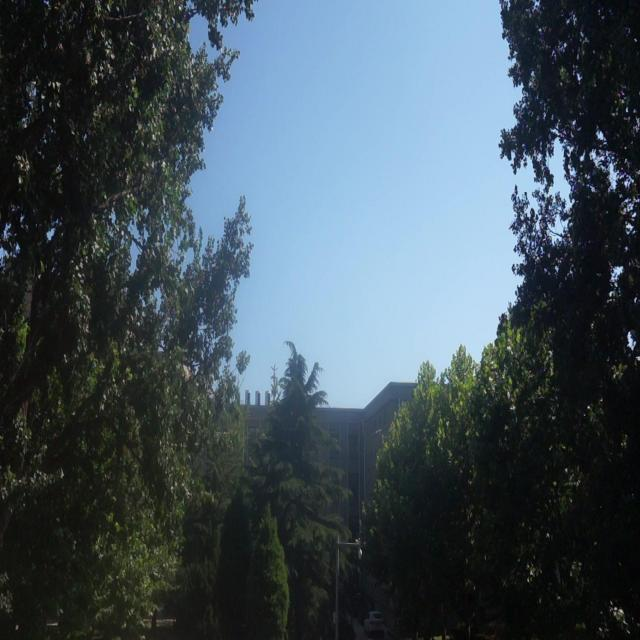UAV: (375, 428, 382, 434)
